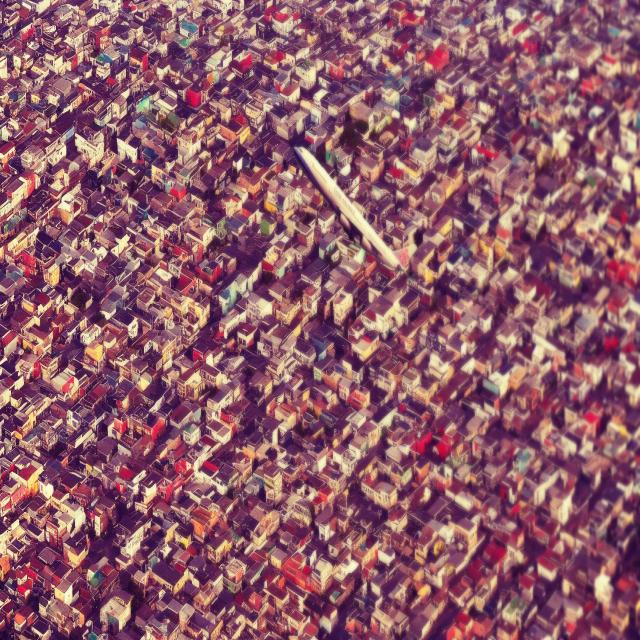airplane: (292, 145, 409, 275)
